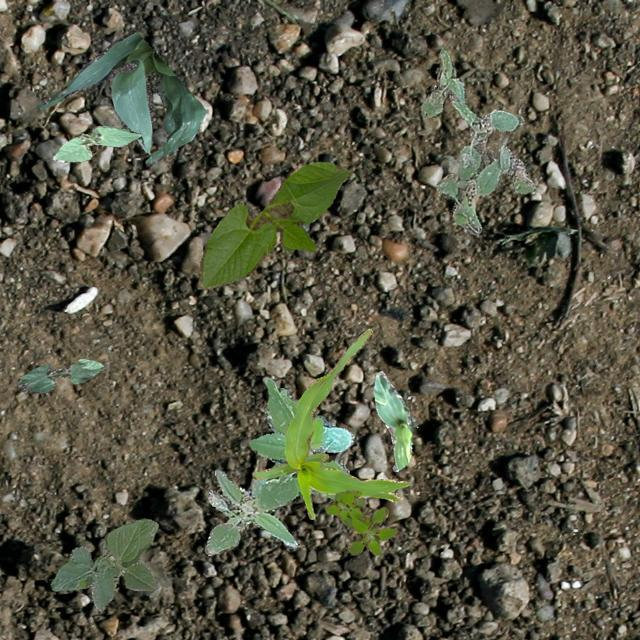crop: (250, 328, 410, 518), (38, 30, 206, 166), (198, 162, 349, 288), (248, 378, 352, 508), (49, 518, 158, 610), (372, 370, 414, 470), (52, 125, 140, 162), (16, 358, 102, 392)
weed: (419, 46, 534, 234), (204, 468, 296, 554), (324, 489, 396, 554)
